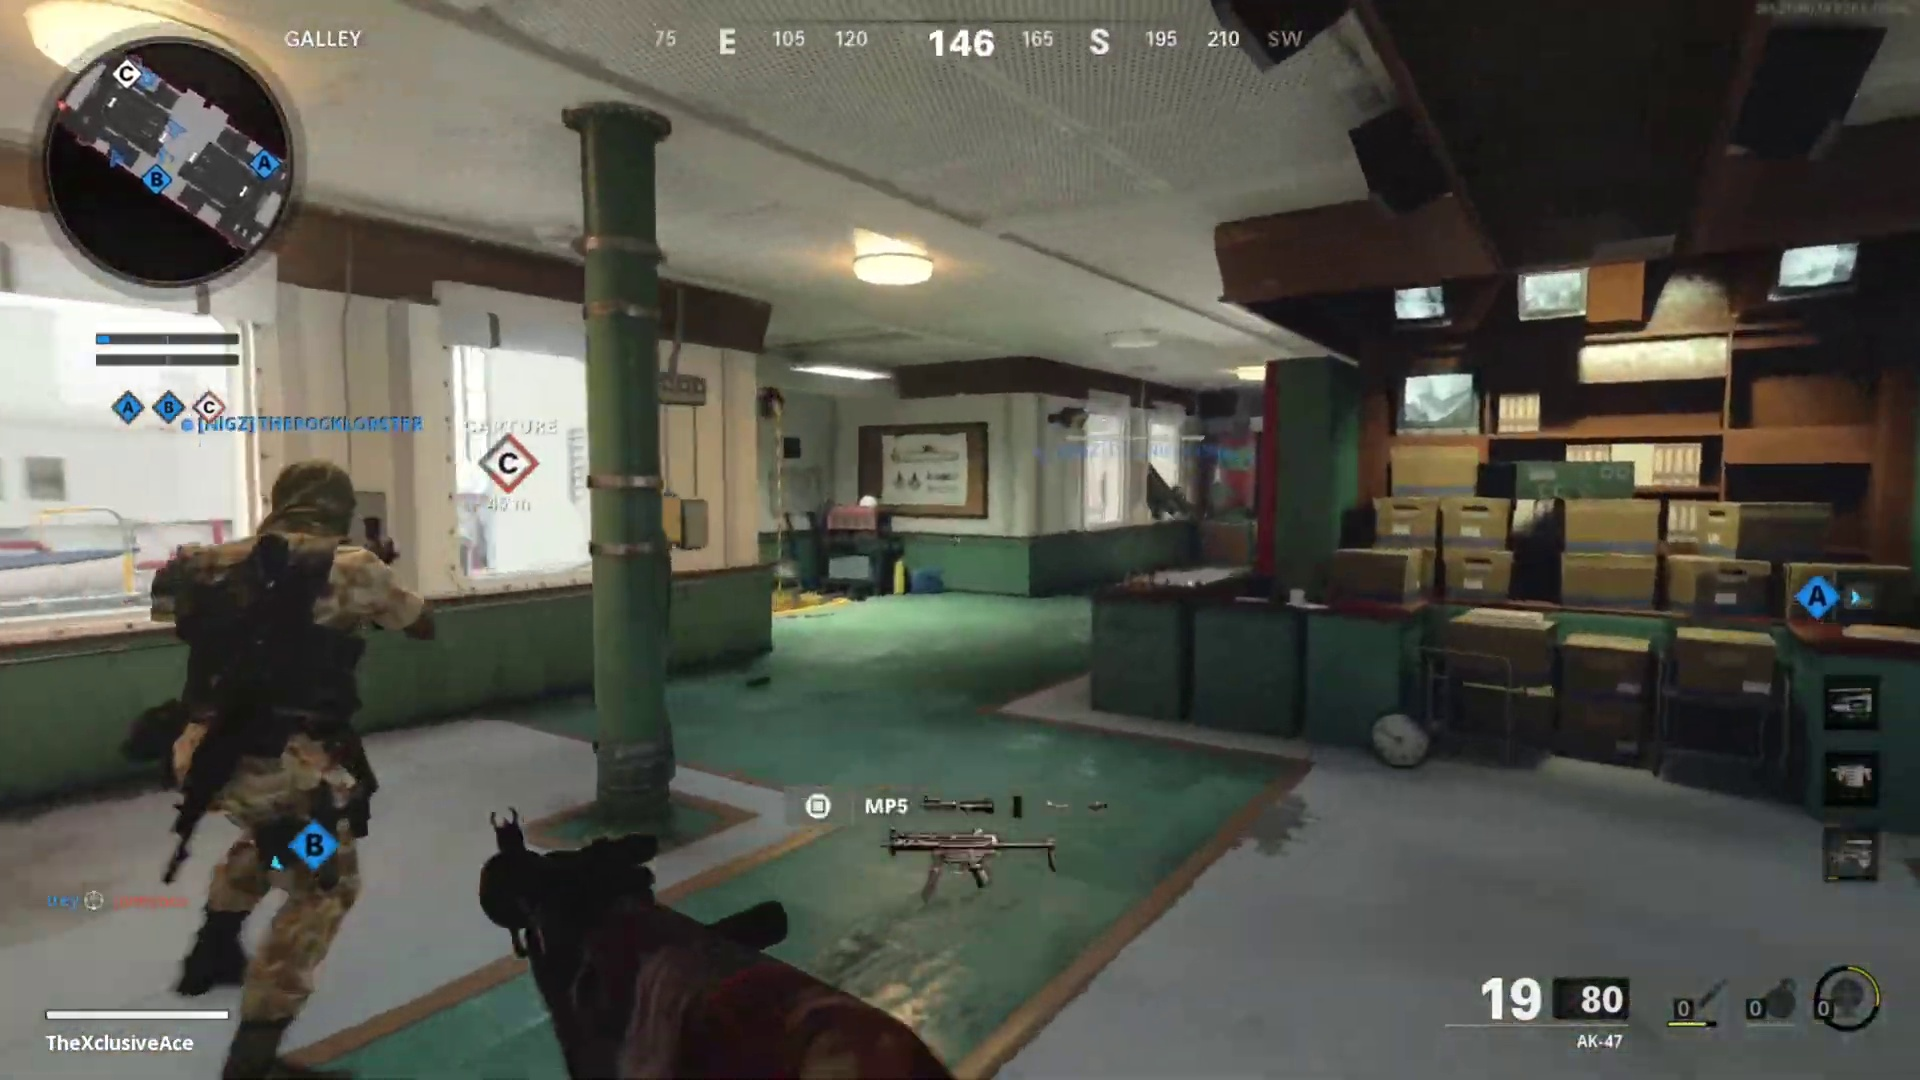head: (258, 456, 362, 555)
person: (154, 463, 425, 1049)
